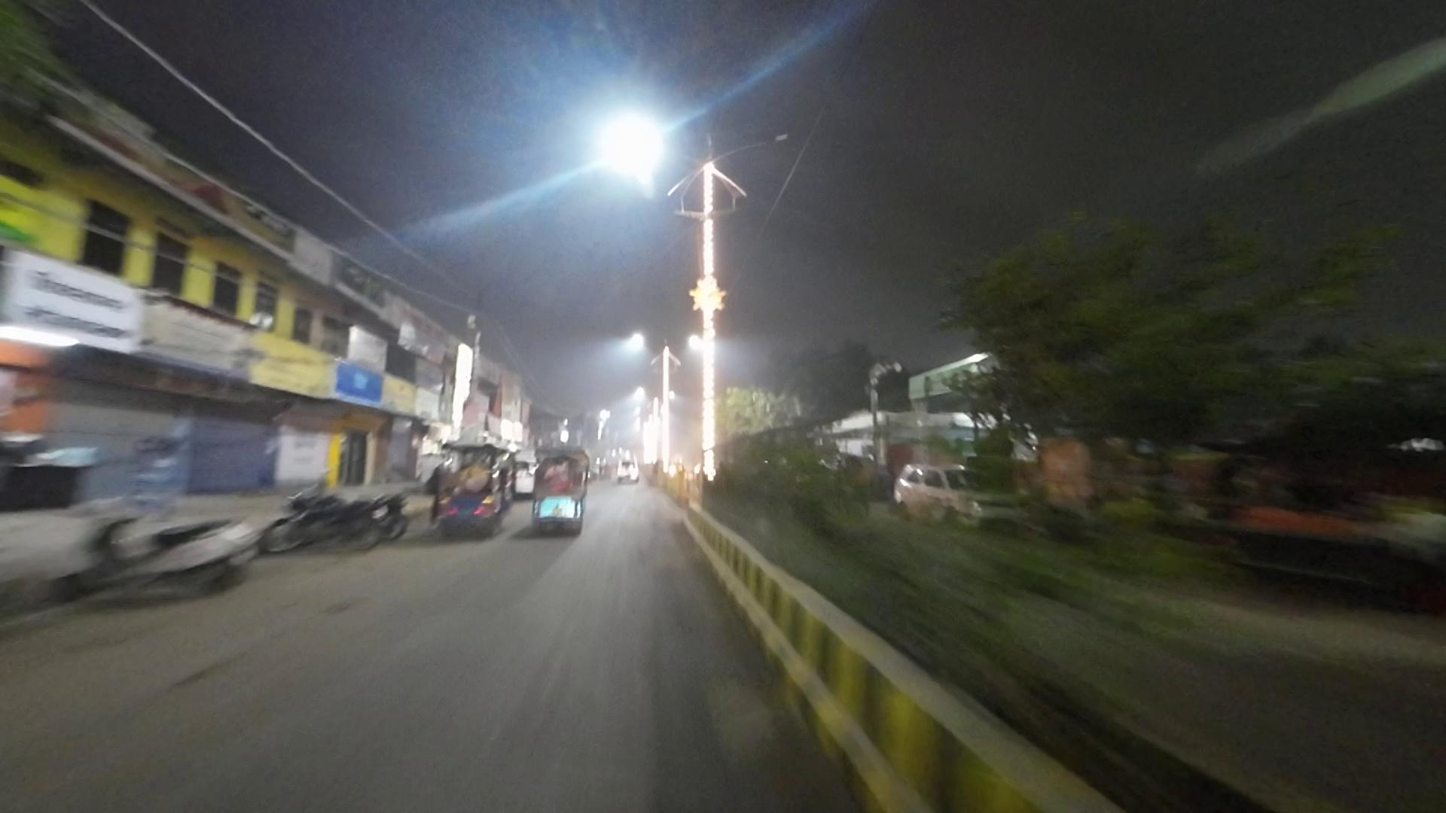streetlight: (714, 129, 792, 158)
